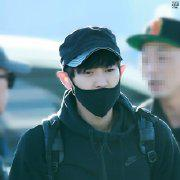WRONG: (72, 58, 121, 116)
